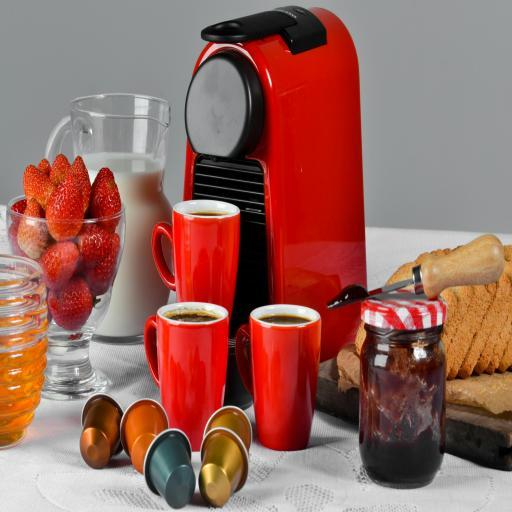cup: (142, 301, 230, 452), (234, 304, 322, 451), (152, 198, 240, 324)
